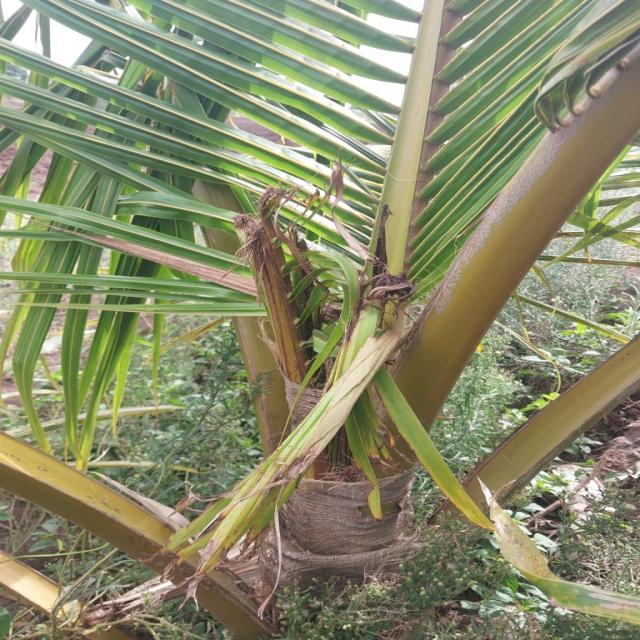bud rot: (235, 189, 415, 390)
